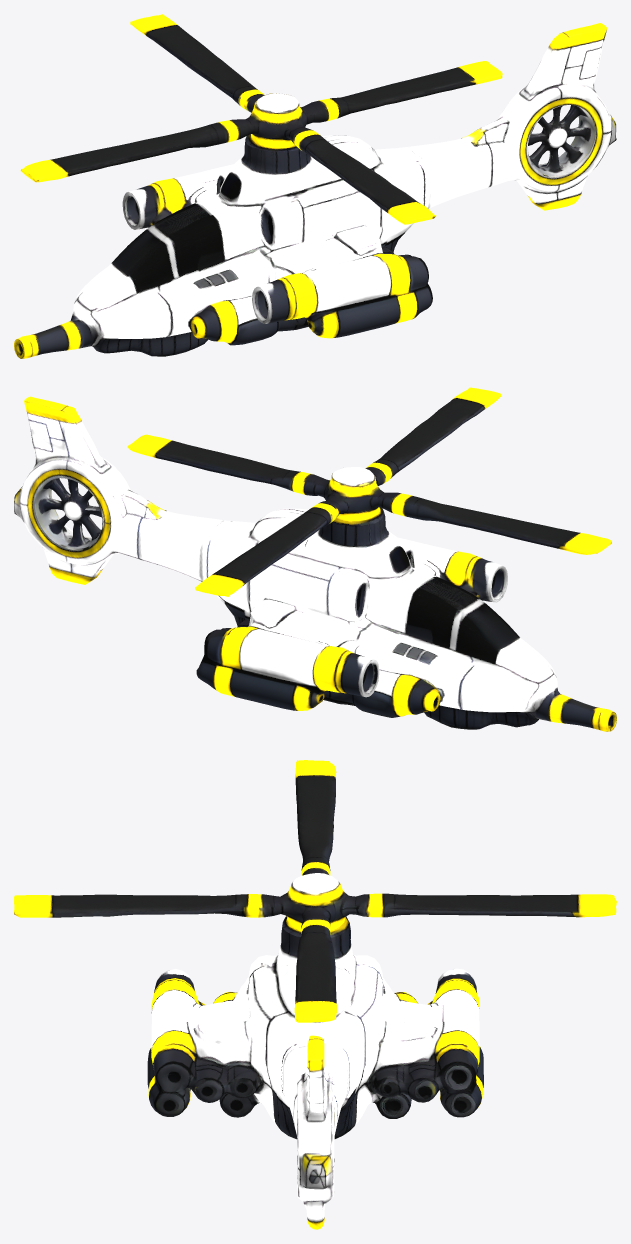
Rendered from Meshy_AI_Aurora_Sky_Helicopter_0522180831_texture.glb.
The picture shows the model from 3 angles, top to bottom: view 1: azimuth 30°, elevation 25°; view 2: azimuth 150°, elevation 25°; view 3: azimuth 270°, elevation 25°; orthographic projection. The views are drawn at different scales.
Parts seen in each view (by area): view 1: Mesh_0; view 2: Mesh_0; view 3: Mesh_0.
Boxes of the visible parts, <box> form: Mesh_0: <box>14,14,616,358</box>; Mesh_0: <box>14,387,616,731</box>; Mesh_0: <box>14,760,616,1229</box>.
Bounding box in the file's own units: 1.92 × 0.6677 × 1.54.
1 material, 1 textured.
